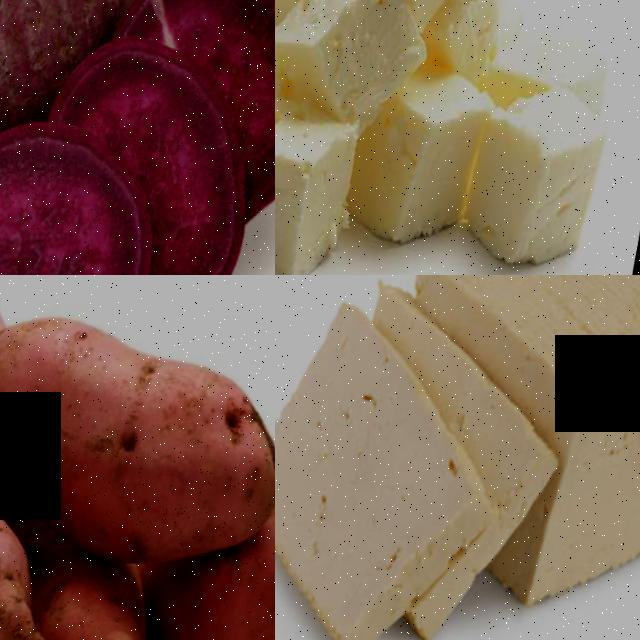sweet potato: (0, 275, 275, 592), (0, 98, 175, 275), (21, 557, 157, 640)
tofu: (275, 275, 528, 640), (464, 275, 640, 640), (450, 78, 614, 275), (275, 0, 442, 134), (382, 76, 488, 264), (275, 85, 368, 275)
